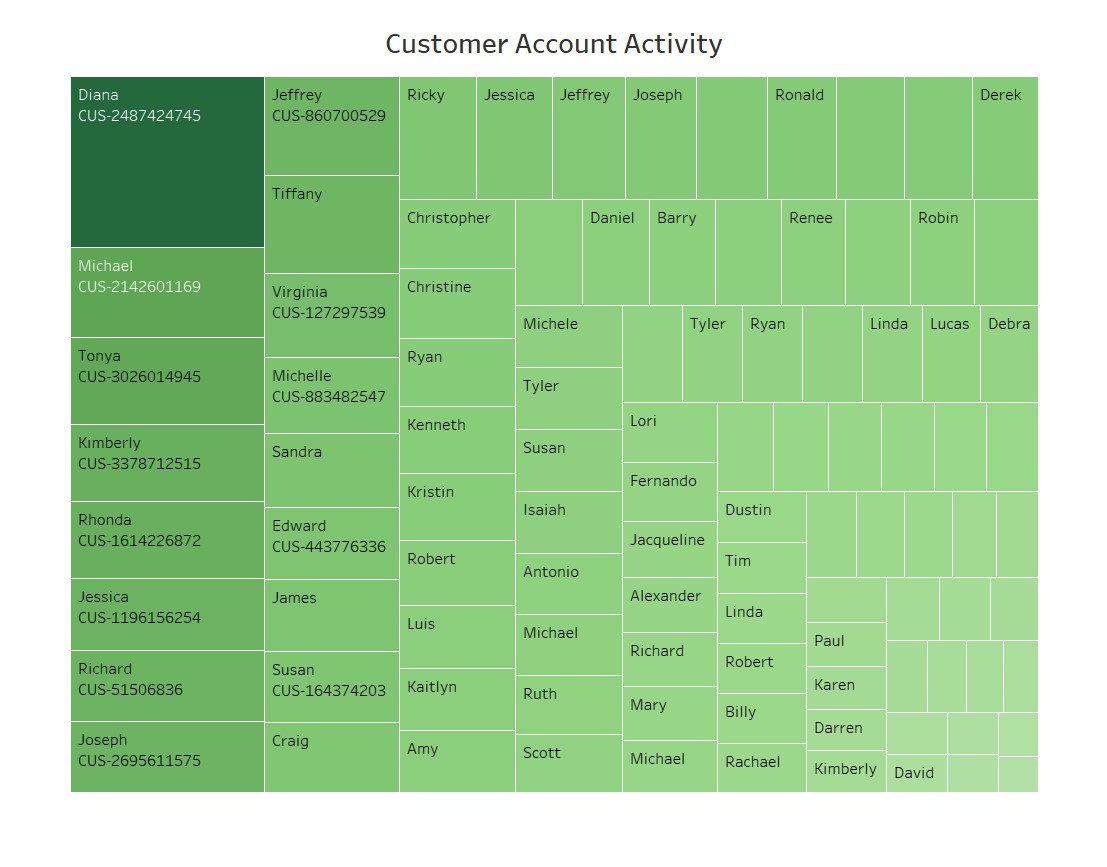

What the dashboard file says about the page in this screenshot:
{"tool":"tableau","page":{"name":"Account Activity ","canvas":[1000,800],"ordinal":0},"visuals":[{"type":"worksheet","title":"Customer Account Activity","mark":"Automatic","box":[8,8,984,784]}]}

Visuals, with their boxes in screenshot pixels (x1, y1, x2, y2), scaled from the page's 1000x800 canvas onto the 1107x867 screenshot:
"Customer Account Activity" worksheet: [left=9, top=9, right=1098, bottom=858]
